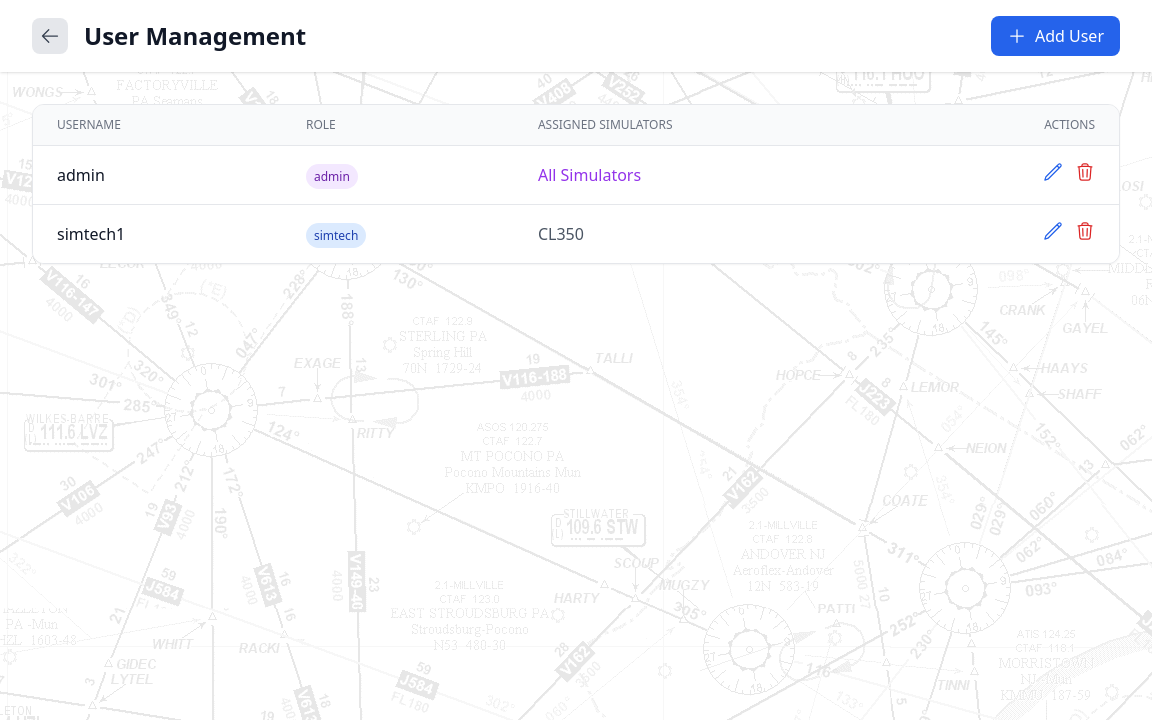
Test: UsersView › should open add modal when Add User clicked
Click the button "Add User" at (1055, 36), box [991,16,1120,56]
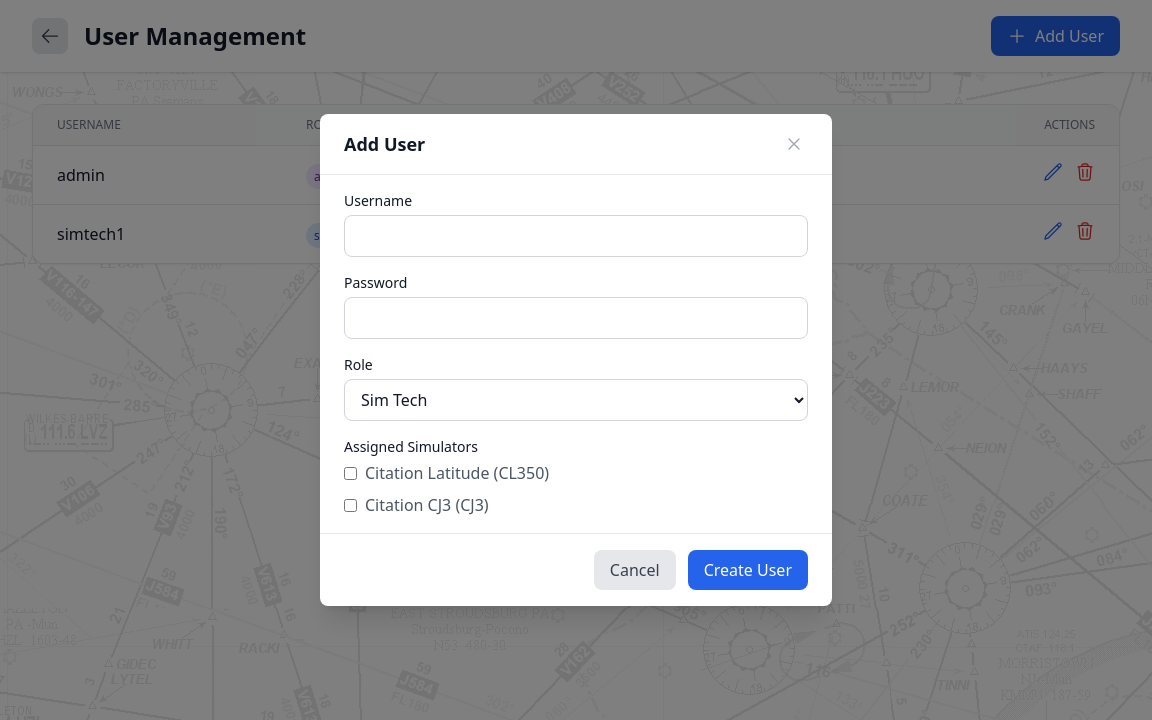
Check: the field is shown, box [344,215,808,257]
